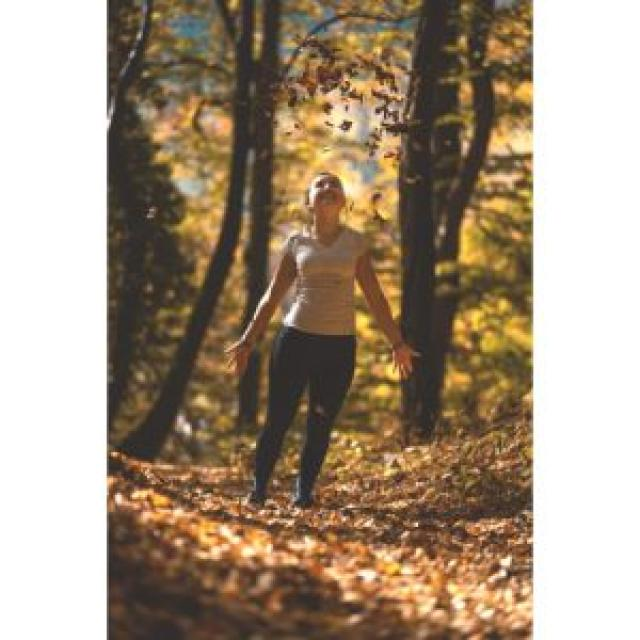nonfall: (244, 175, 378, 510)
